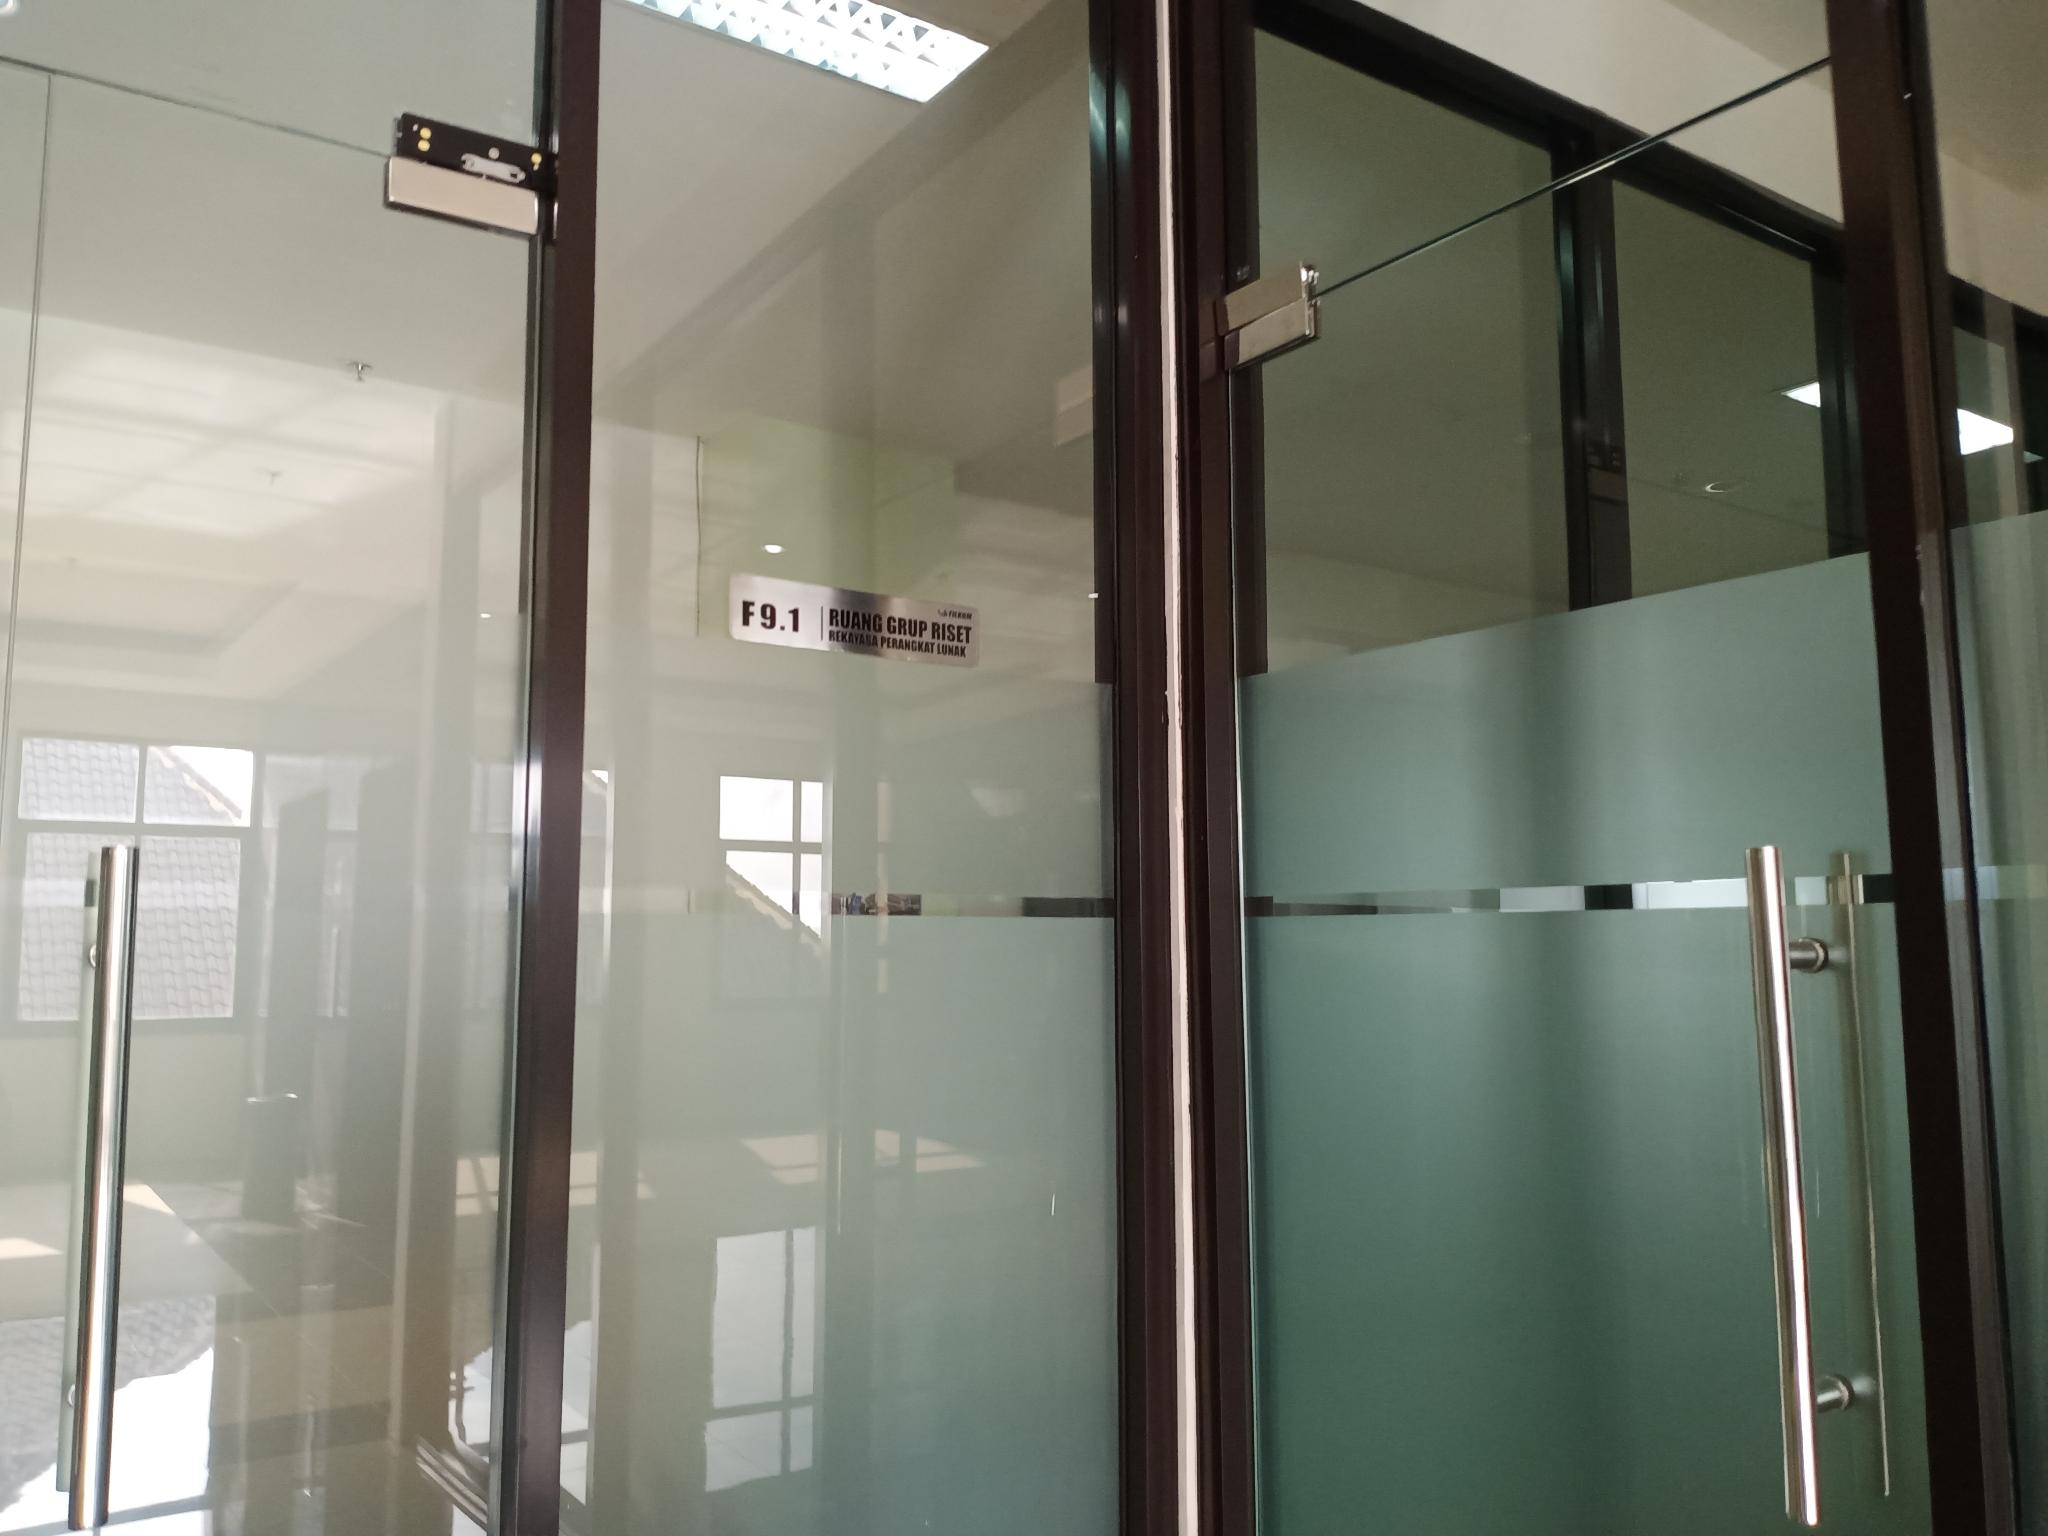plate: (724, 568, 985, 671)
